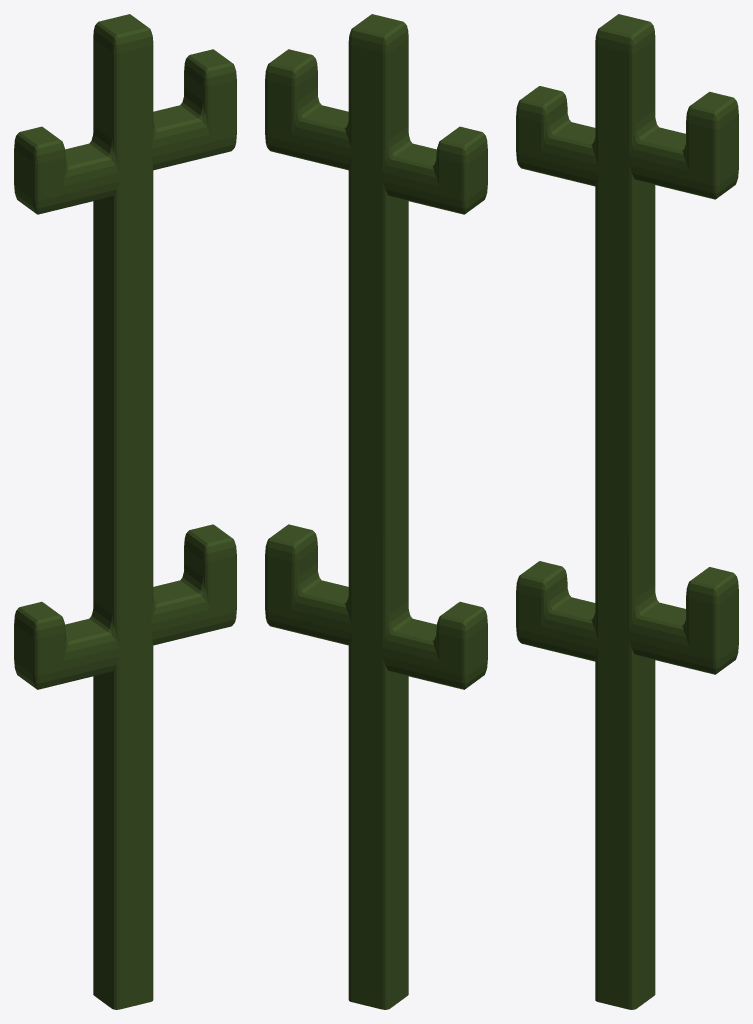
Rendered from Cactus.fbx.
The picture shows the model from 3 angles, left to right: view 1: azimuth 30°, elevation 25°; view 2: azimuth 150°, elevation 25°; view 3: azimuth 330°, elevation 25°; orthographic projection.
Visible parts, largest first — view 1: Cube, Cube.001; view 2: Cube, Cube.001; view 3: Cube, Cube.001.
Part boxes in pixels (x1,y1,x2,y2): Cube: (14, 14, 236, 534); Cube.001: (14, 514, 236, 1009); Cube: (265, 14, 487, 534); Cube.001: (265, 514, 487, 1009); Cube: (516, 14, 738, 534); Cube.001: (516, 513, 738, 1009).
Bounding box in the file's own units: 296 × 1354 × 59.18.
